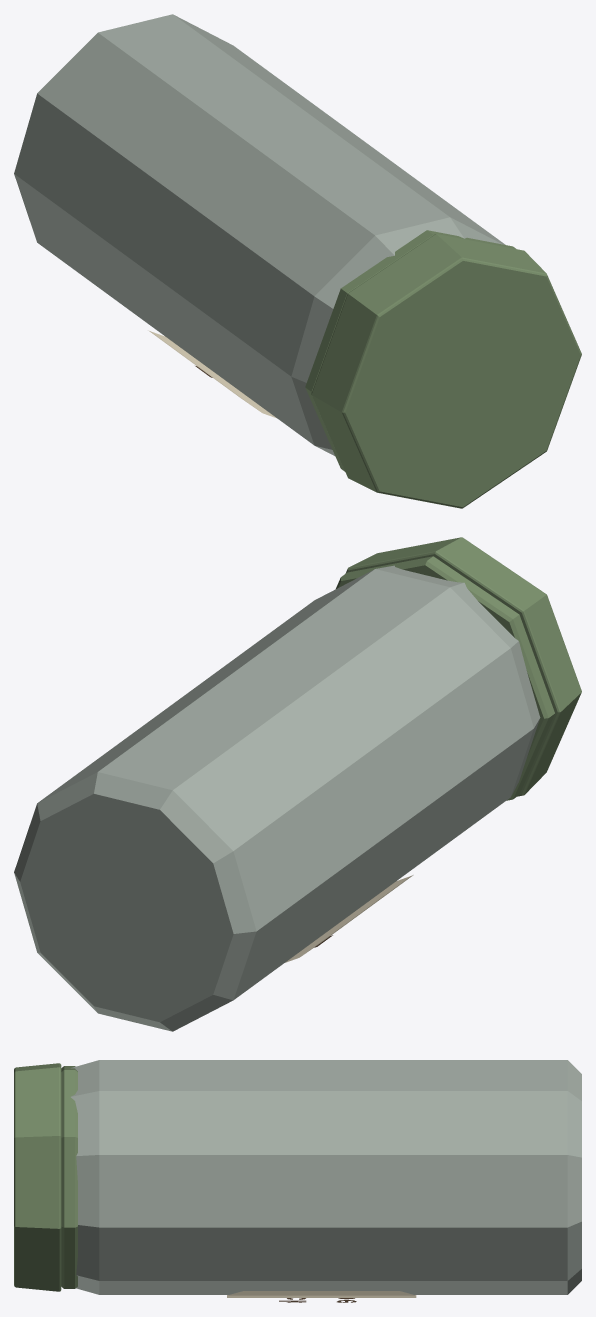
The model's file is black_pepper.glb.
3 views of the same model, one above another, from view 1: azimuth 30°, elevation 25°; view 2: azimuth 150°, elevation 25°; view 3: azimuth 270°, elevation 25° (orthographic). The views are drawn at different scales.
Visible parts, largest first — view 1: black_pepper; view 2: black_pepper; view 3: black_pepper.
Part boxes in pixels (x1,y1,x2,y2): black_pepper: (14,14,581,508); black_pepper: (14,537,581,1031); black_pepper: (14,1060,581,1302).
Bounding box in the file's own units: 0.0514 × 0.0522 × 0.12.
